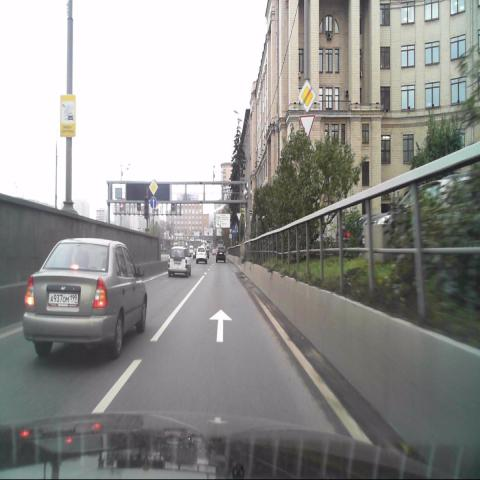2_2: (298, 80, 316, 113)
